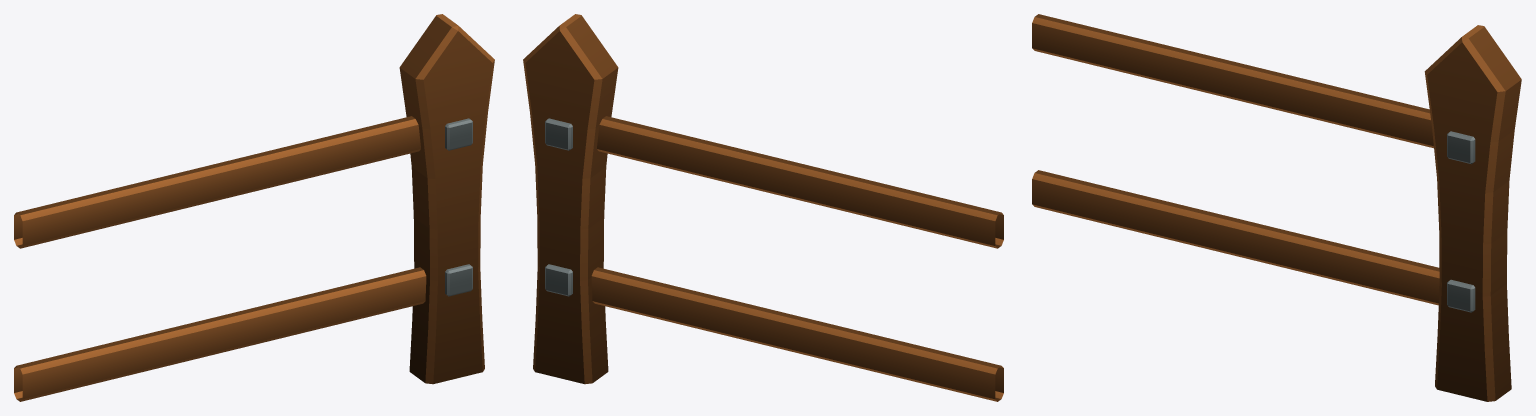
Rendered from Fence-1-2.fbx.
3 renders of one model, left to right at view 1: azimuth 30°, elevation 25°; view 2: azimuth 150°, elevation 25°; view 3: azimuth 330°, elevation 25°, orthographic.
Parts seen in each view (by area): view 1: Fence-1-2; view 2: Fence-1-2; view 3: Fence-1-2.
Part boxes in pixels (x1,y1,x2,y2): Fence-1-2: (14, 14, 494, 401); Fence-1-2: (523, 14, 1003, 401); Fence-1-2: (1032, 14, 1521, 401).
Bounding box in the file's own units: 232 × 165 × 23.63.
